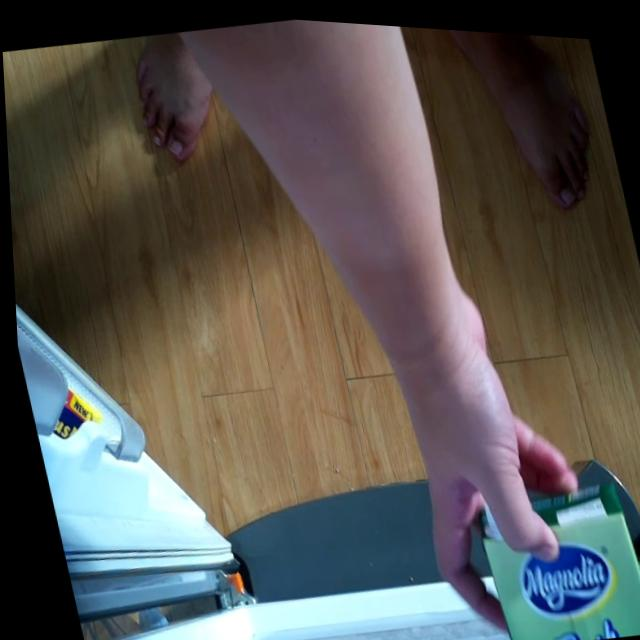milk: (456, 452, 640, 640)
